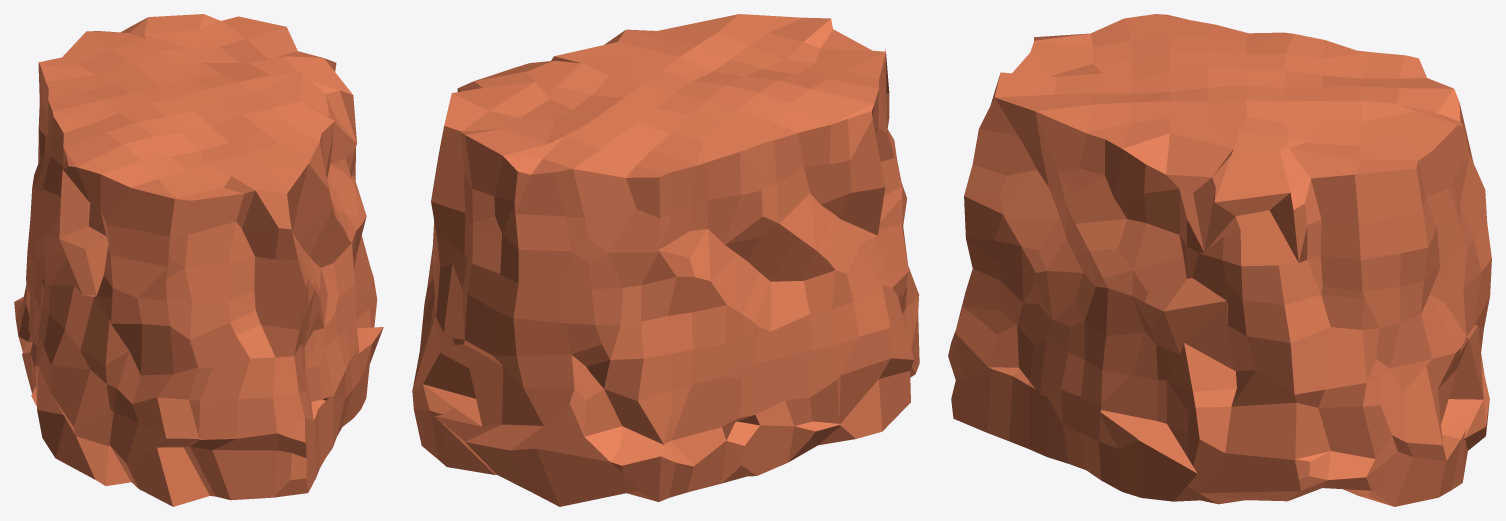
The model's file is Rock_V06.fbx.
3 renders of one model, left to right at view 1: azimuth 30°, elevation 25°; view 2: azimuth 150°, elevation 25°; view 3: azimuth 270°, elevation 25°, orthographic. The views are drawn at different scales.
Parts seen in each view (by area): view 1: Rock_V06; view 2: Rock_V06; view 3: Rock_V06.
Boxes of the visible parts, x1,y1,x2,y2 form: Rock_V06: [14, 14, 383, 506]; Rock_V06: [412, 14, 919, 506]; Rock_V06: [948, 14, 1491, 506].
Bounding box in the file's own units: 965 × 793 × 1119.
